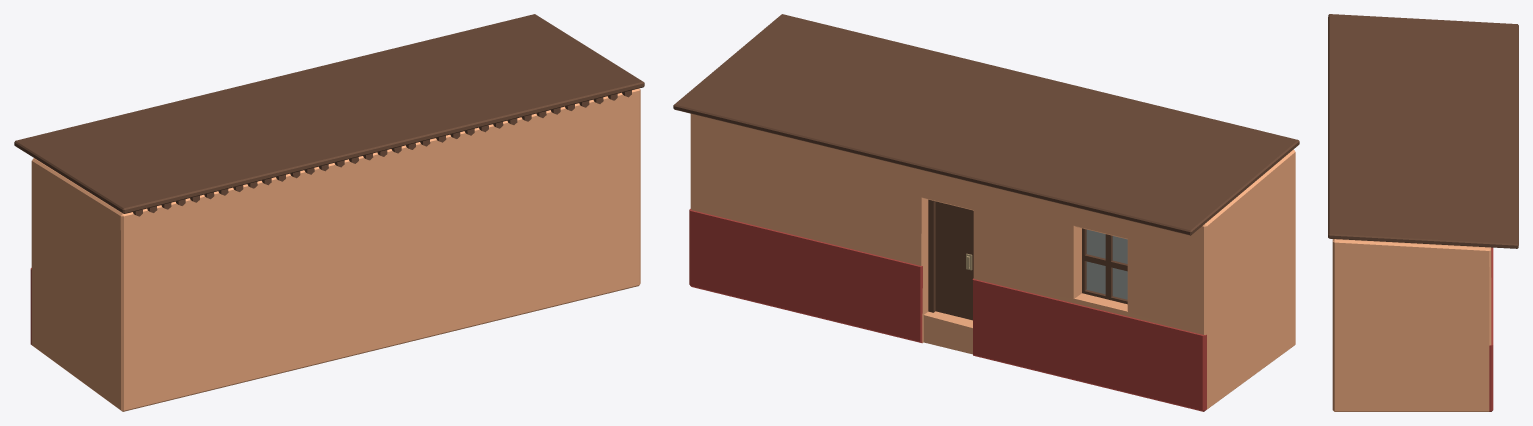
The model's file is Edificio_Pequeña02.fbx.
3 renders of one model, left to right at view 1: azimuth 30°, elevation 25°; view 2: azimuth 150°, elevation 25°; view 3: azimuth 270°, elevation 25°, orthographic. The views are drawn at different scales.
Parts seen in each view (by area): view 1: SMDoorModule.002; view 2: SMDoorModule.002; view 3: SMDoorModule.002.
Boxes of the visible parts, left/top/right/bottom form: SMDoorModule.002: left=14, top=14, right=644, bottom=411; SMDoorModule.002: left=673, top=14, right=1299, bottom=411; SMDoorModule.002: left=1328, top=14, right=1518, bottom=411.
Bounding box in the file's own units: 988 × 373 × 361.
